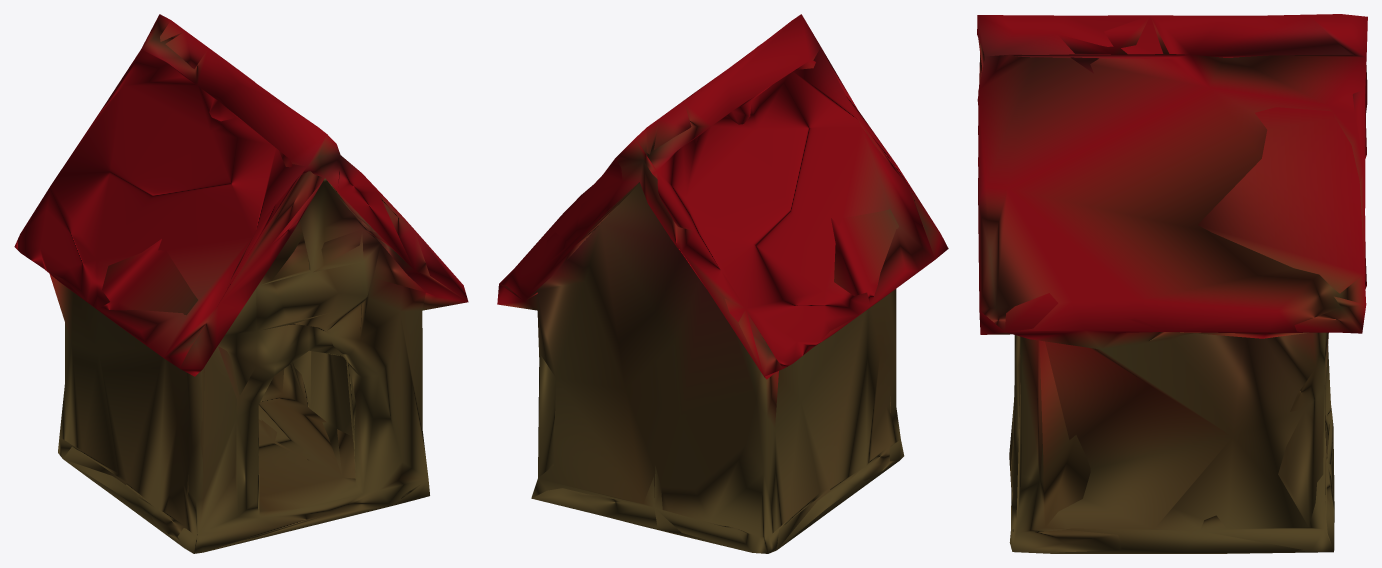
File: gen3d-dog-kennel-lod0.glb
3 views of the same model, side by side, from view 1: azimuth 30°, elevation 25°; view 2: azimuth 150°, elevation 25°; view 3: azimuth 270°, elevation 25° (orthographic). The views are drawn at different scales.
Parts seen in each view (by area): view 1: part_0; view 2: part_0; view 3: part_0.
Part boxes in pixels (bbox=[...]): part_0: bbox=[14, 14, 468, 553]; part_0: bbox=[497, 14, 948, 553]; part_0: bbox=[977, 14, 1367, 553].
Size of the model in its own units: 0.772 by 1 by 0.7491.
